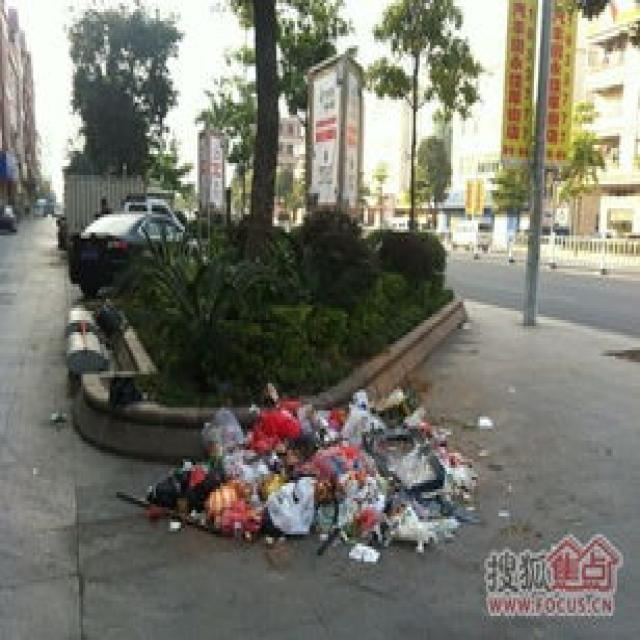garbage: (114, 378, 490, 562)
